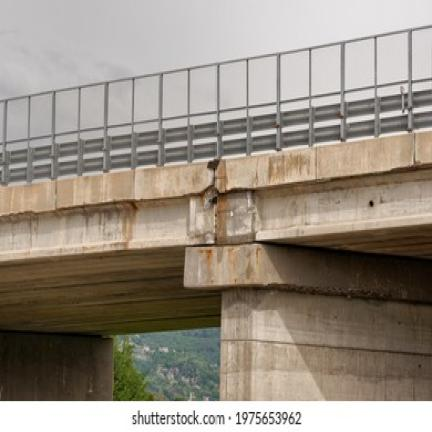besi_tidak_karat: (0, 25, 431, 184)
karat: (204, 187, 217, 210), (207, 157, 219, 170)
